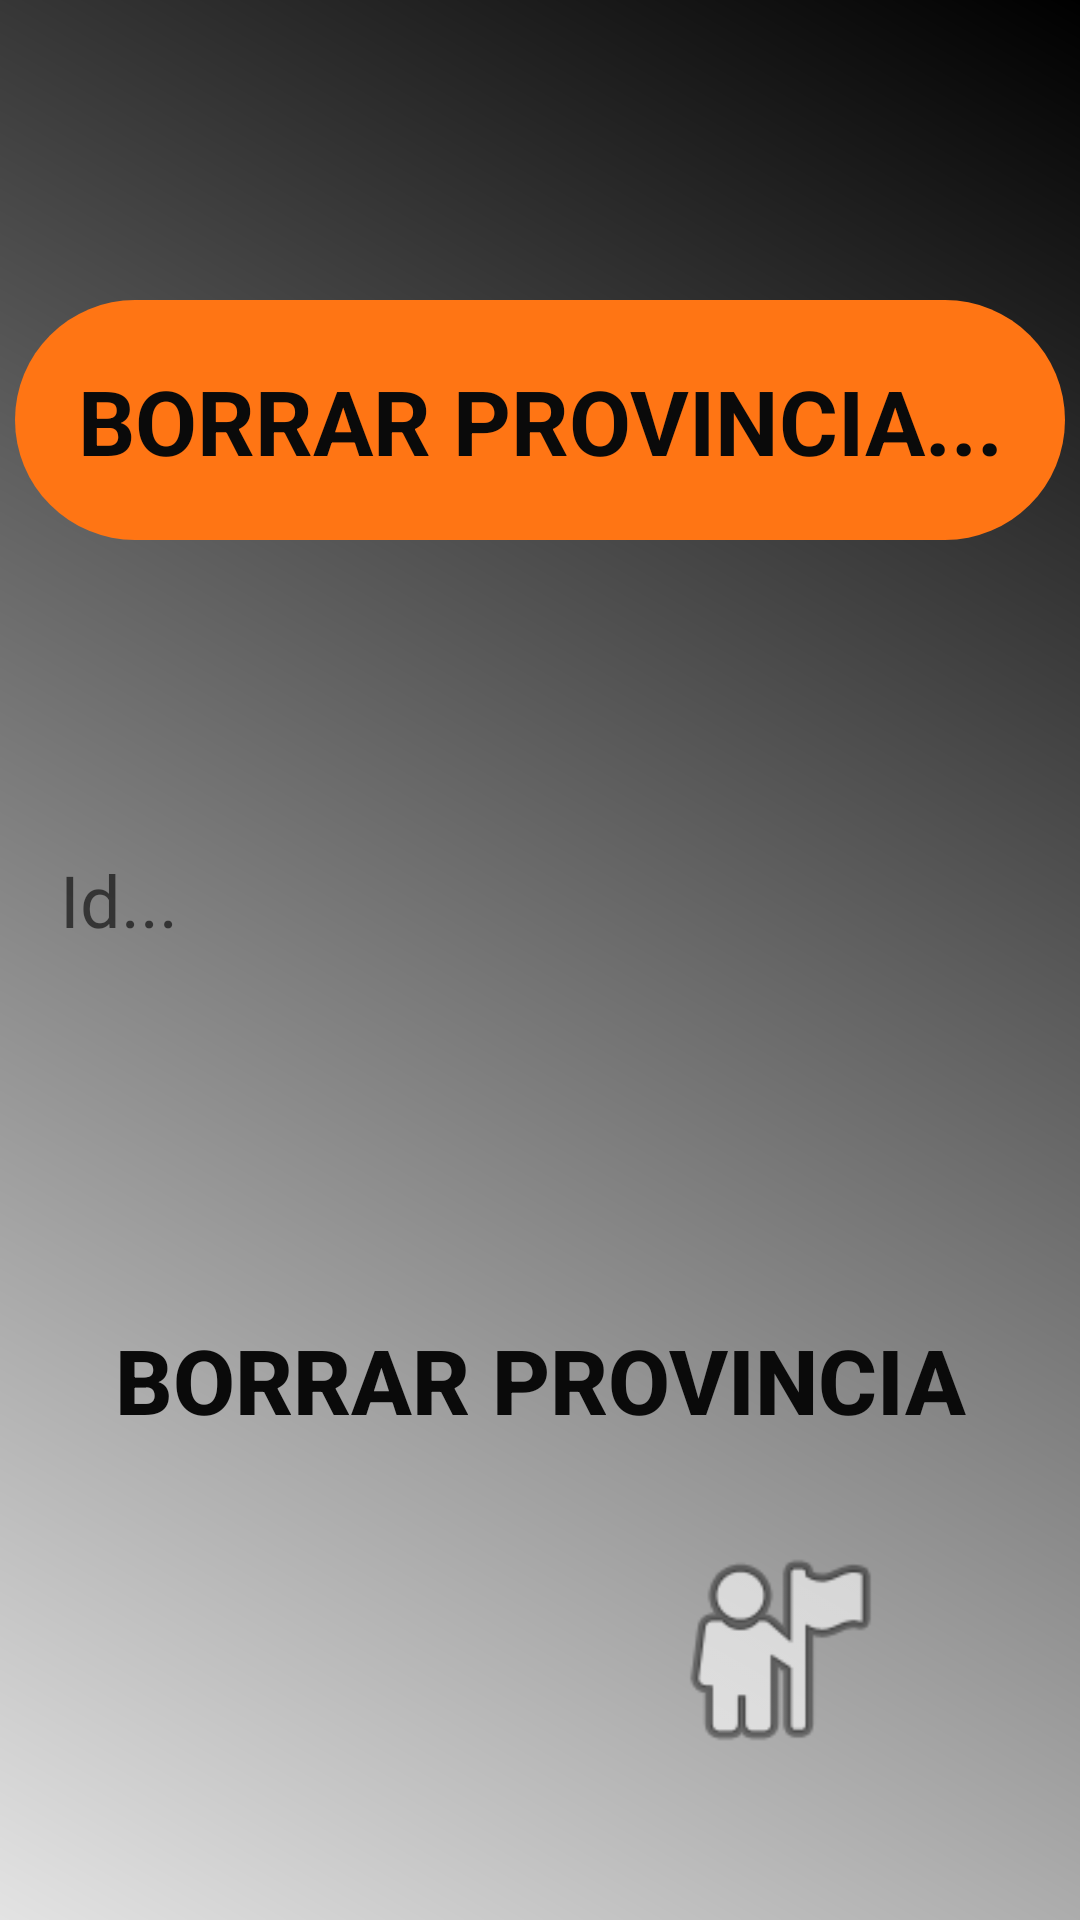

Named icons in this screenshot (1080px×1920px) and their bounding boxes, (x1, y1, x2, y2):
myplaces: (690, 1559, 872, 1739)
